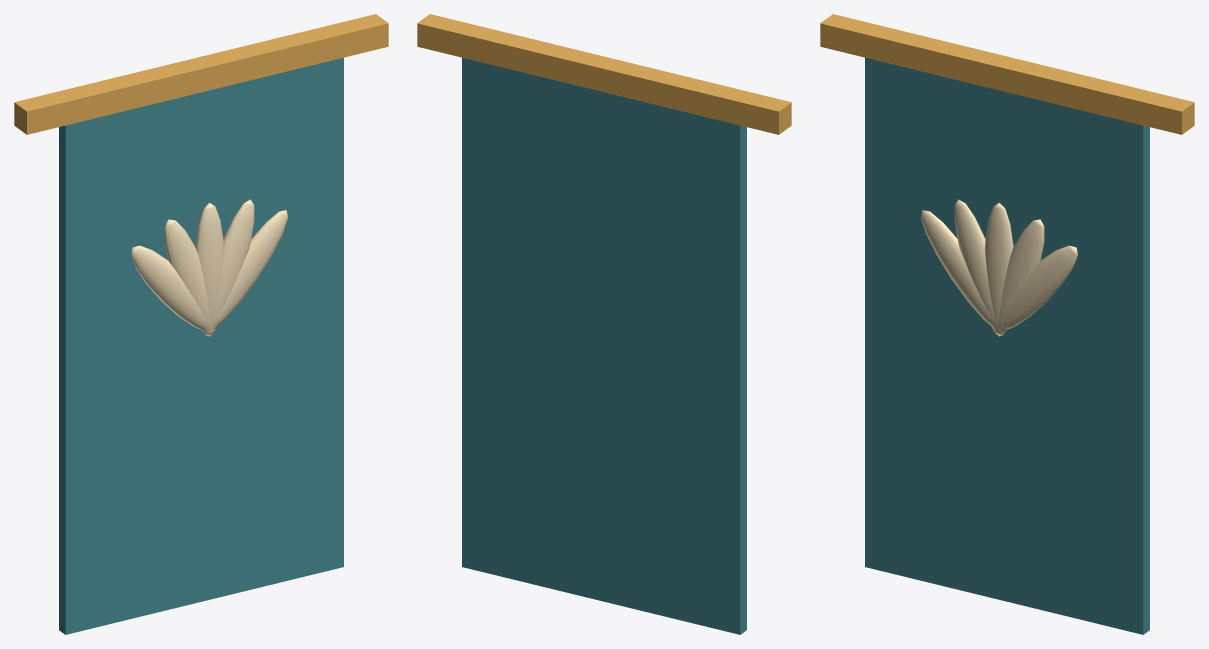
The model's file is prop-hall-banner-1.glb.
3 views of the same model, side by side, from view 1: azimuth 30°, elevation 25°; view 2: azimuth 150°, elevation 25°; view 3: azimuth 330°, elevation 25° (orthographic).
Parts seen in each view (by area): view 1: banner; view 2: banner; view 3: banner.
Boxes of the visible parts, left/top/right/bottom form: banner: left=14, top=14, right=388, bottom=634; banner: left=417, top=14, right=791, bottom=634; banner: left=820, top=14, right=1194, bottom=634.
Size of the model in its own units: 1.3 by 1.84 by 0.115.
